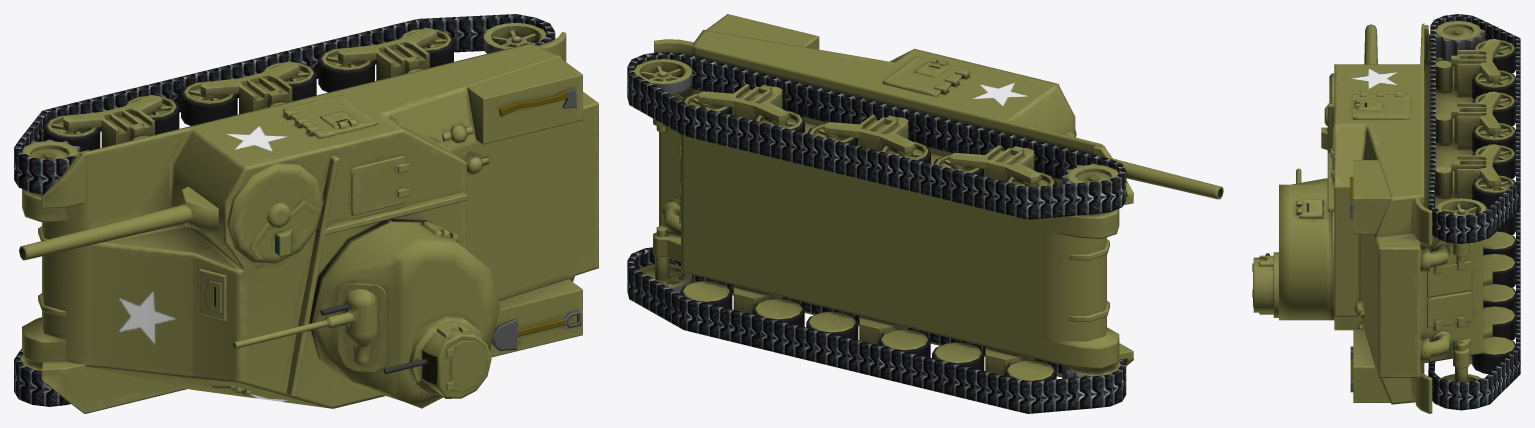
Rendered from 14075_WWII_Tank_US_M3_v1_L1.obj.
3 renders of one model, left to right at view 1: azimuth 30°, elevation 25°; view 2: azimuth 150°, elevation 25°; view 3: azimuth 270°, elevation 25°, orthographic. The views are drawn at different scales.
Parts seen in each view (by area): view 1: 14075_WWII_Tank_US_M3_hull, 14075_WWII_Tank_US_M3_tracks, 14075_WWII_Tank_US_M3_turret; view 2: 14075_WWII_Tank_US_M3_hull, 14075_WWII_Tank_US_M3_tracks; view 3: 14075_WWII_Tank_US_M3_hull, 14075_WWII_Tank_US_M3_tracks, 14075_WWII_Tank_US_M3_turret.
Part boxes in pixels (box(x1,y1,x2,y2)): 14075_WWII_Tank_US_M3_hull: box(19, 32, 598, 413); 14075_WWII_Tank_US_M3_tracks: box(14, 14, 555, 406); 14075_WWII_Tank_US_M3_turret: box(232, 218, 500, 408); 14075_WWII_Tank_US_M3_hull: box(653, 14, 1223, 377); 14075_WWII_Tank_US_M3_tracks: box(627, 52, 1126, 413); 14075_WWII_Tank_US_M3_hull: box(1321, 23, 1483, 413); 14075_WWII_Tank_US_M3_tracks: box(1428, 14, 1520, 410); 14075_WWII_Tank_US_M3_turret: box(1252, 168, 1334, 320).
Size of the model in its own units: 3.32 by 1.5 by 1.68.
3 materials, 3 textured.
